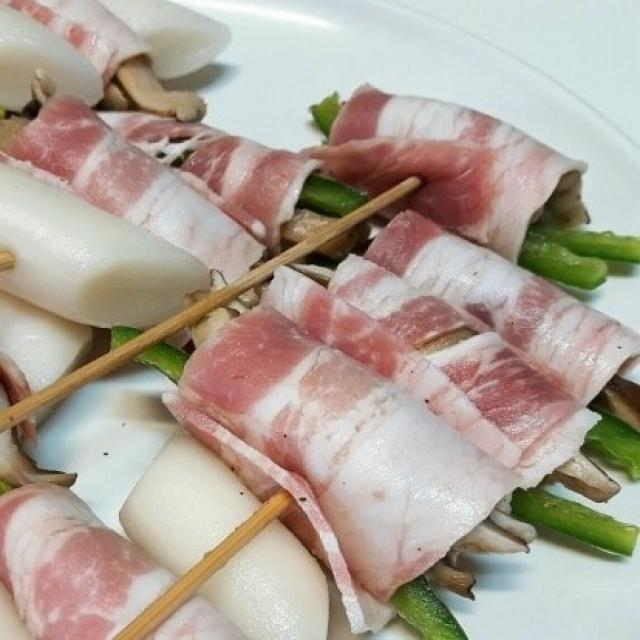bacon: (164, 267, 519, 633), (8, 98, 318, 281), (366, 211, 640, 405), (309, 87, 589, 261), (2, 485, 175, 640), (2, 1, 150, 83), (150, 600, 246, 639)
